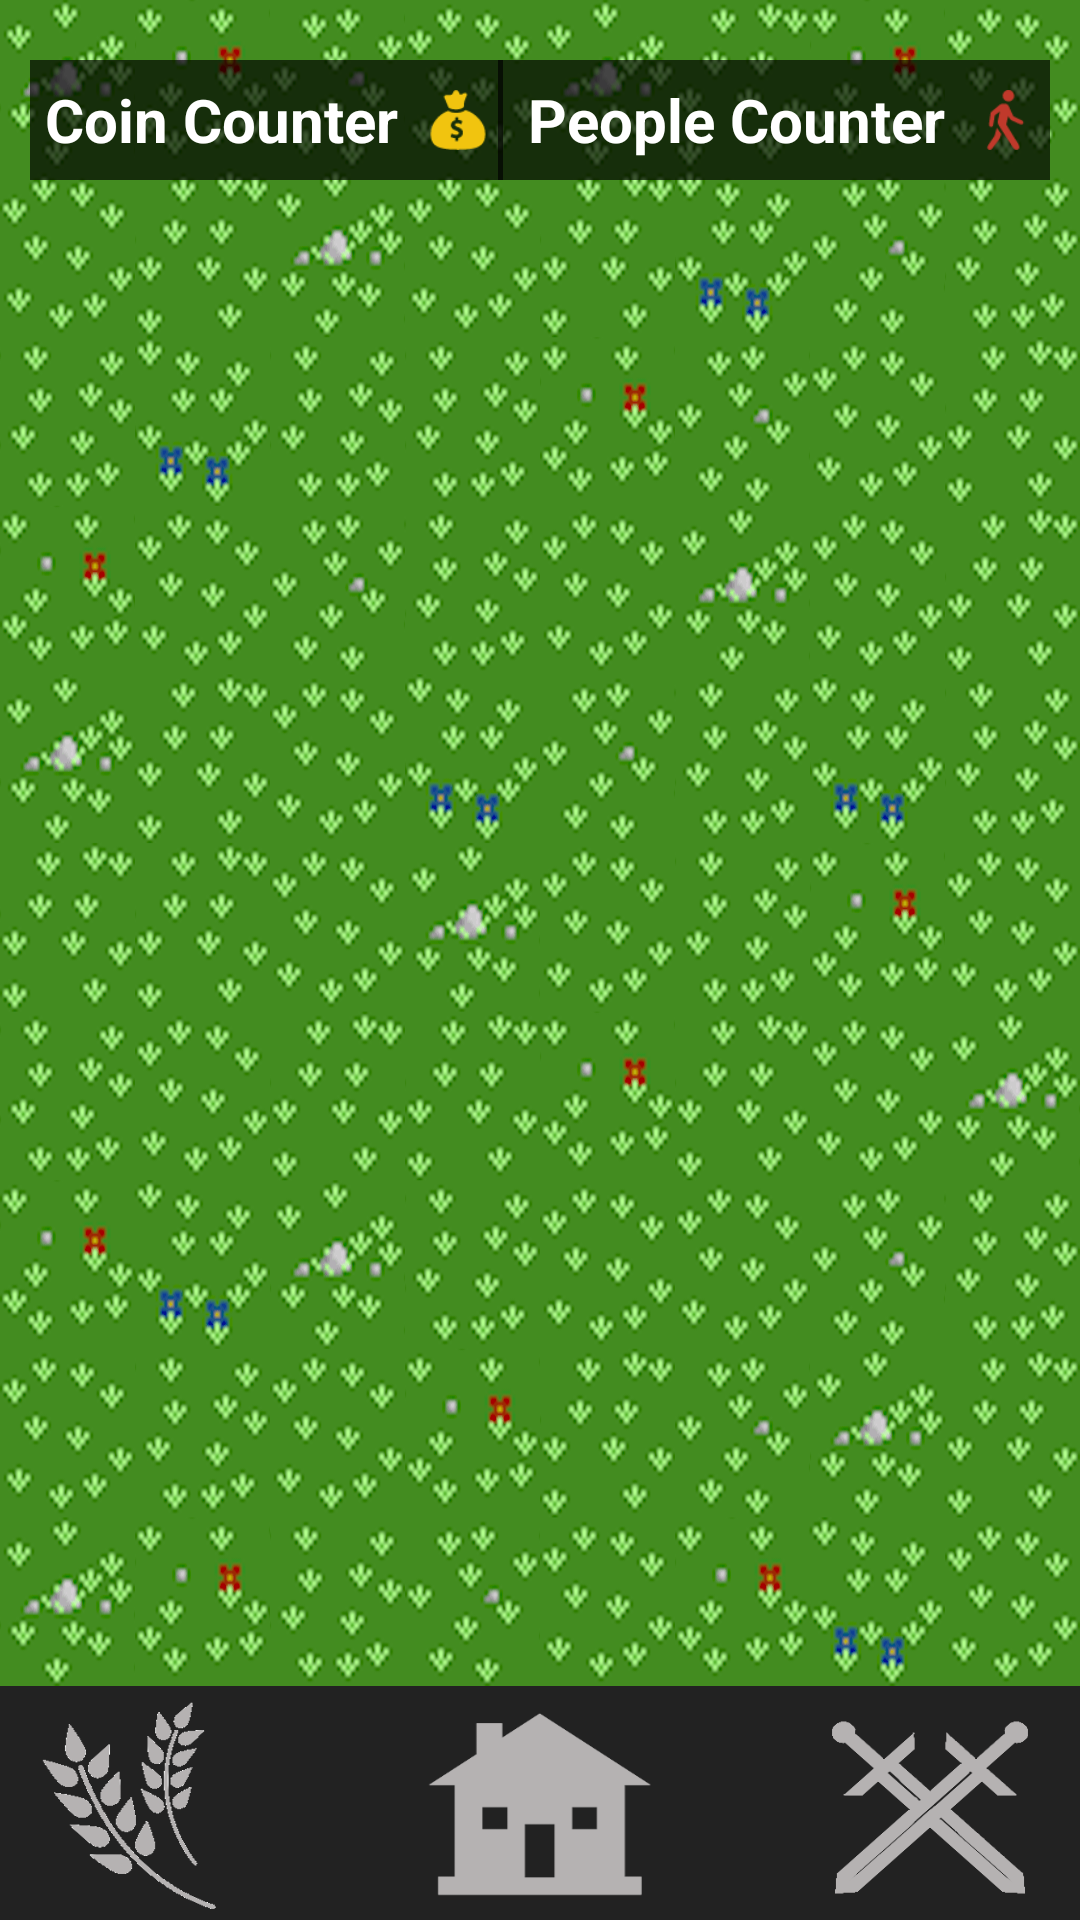

Point at icon controls on the screen. Image size 1080w x 1920h, points as (x=x, y=y).
money bag: (x=458, y=120)
walking man: (x=1011, y=120)
wheat: (x=129, y=1805)
